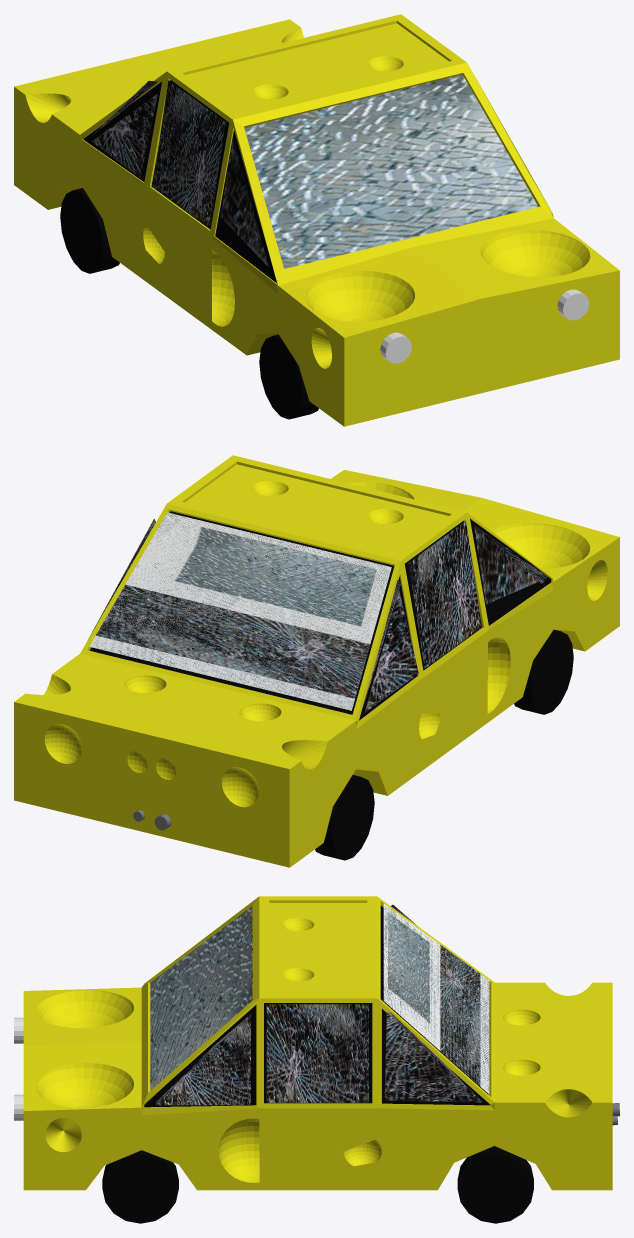
File: CarYellowStage3.fbx
The picture shows the model from 3 angles, top to bottom: view 1: azimuth 30°, elevation 25°; view 2: azimuth 150°, elevation 25°; view 3: azimuth 270°, elevation 25°; orthographic projection. The views are drawn at different scales.
Parts seen in each view (by area): view 1: Car, Vooruit kapot, wheels, Headlights; view 2: Car, Vooruit kapot, wheels; view 3: Car, Vooruit kapot, wheels, Headlights.
Part boxes in pixels (x1,y1,x2,y2): Car: (14, 14, 619, 426); Vooruit kapot: (90, 74, 538, 268); wheels: (60, 188, 318, 419); Headlights: (380, 289, 589, 363); Car: (14, 455, 619, 867); Vooruit kapot: (89, 512, 547, 712); wheels: (315, 629, 573, 860); Car: (23, 896, 612, 1190); Vooruit kapot: (150, 903, 489, 1105); wheels: (102, 1146, 533, 1223); Headlights: (14, 1017, 23, 1120).
Size of the model in its own units: 502 by 415 by 1049.
Materials: 13 (8 with a texture image).
